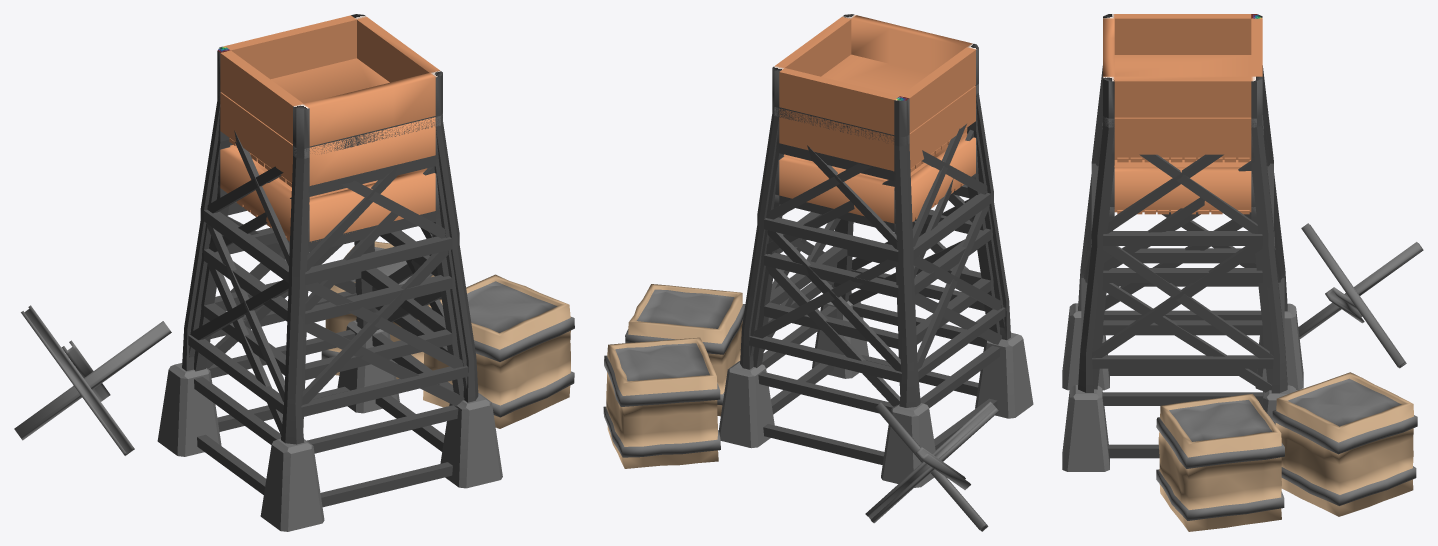
Rendered from watchtower_remake.fbx.
3 renders of one model, left to right at view 1: azimuth 30°, elevation 25°; view 2: azimuth 150°, elevation 25°; view 3: azimuth 270°, elevation 25°, orthographic. The views are drawn at different scales.
Parts seen in each view (by area): view 1: watchtower_t3, watchtower_t2, watchtower_t1; view 2: watchtower_t3, watchtower_t2, watchtower_t1; view 3: watchtower_t3, watchtower_t2, watchtower_t1.
Boxes of the visible parts, <box> form: watchtower_t3: <box>14,14,574,531</box>; watchtower_t2: <box>189,90,467,453</box>; watchtower_t1: <box>194,145,463,507</box>; watchtower_t3: <box>603,14,1033,531</box>; watchtower_t2: <box>750,84,1004,413</box>; watchtower_t1: <box>753,132,1000,464</box>; watchtower_t3: <box>1062,14,1423,531</box>; watchtower_t2: <box>1084,103,1281,405</box>; watchtower_t1: <box>1093,160,1272,458</box>.
Bounding box in the file's own units: 210 × 171 × 150.
